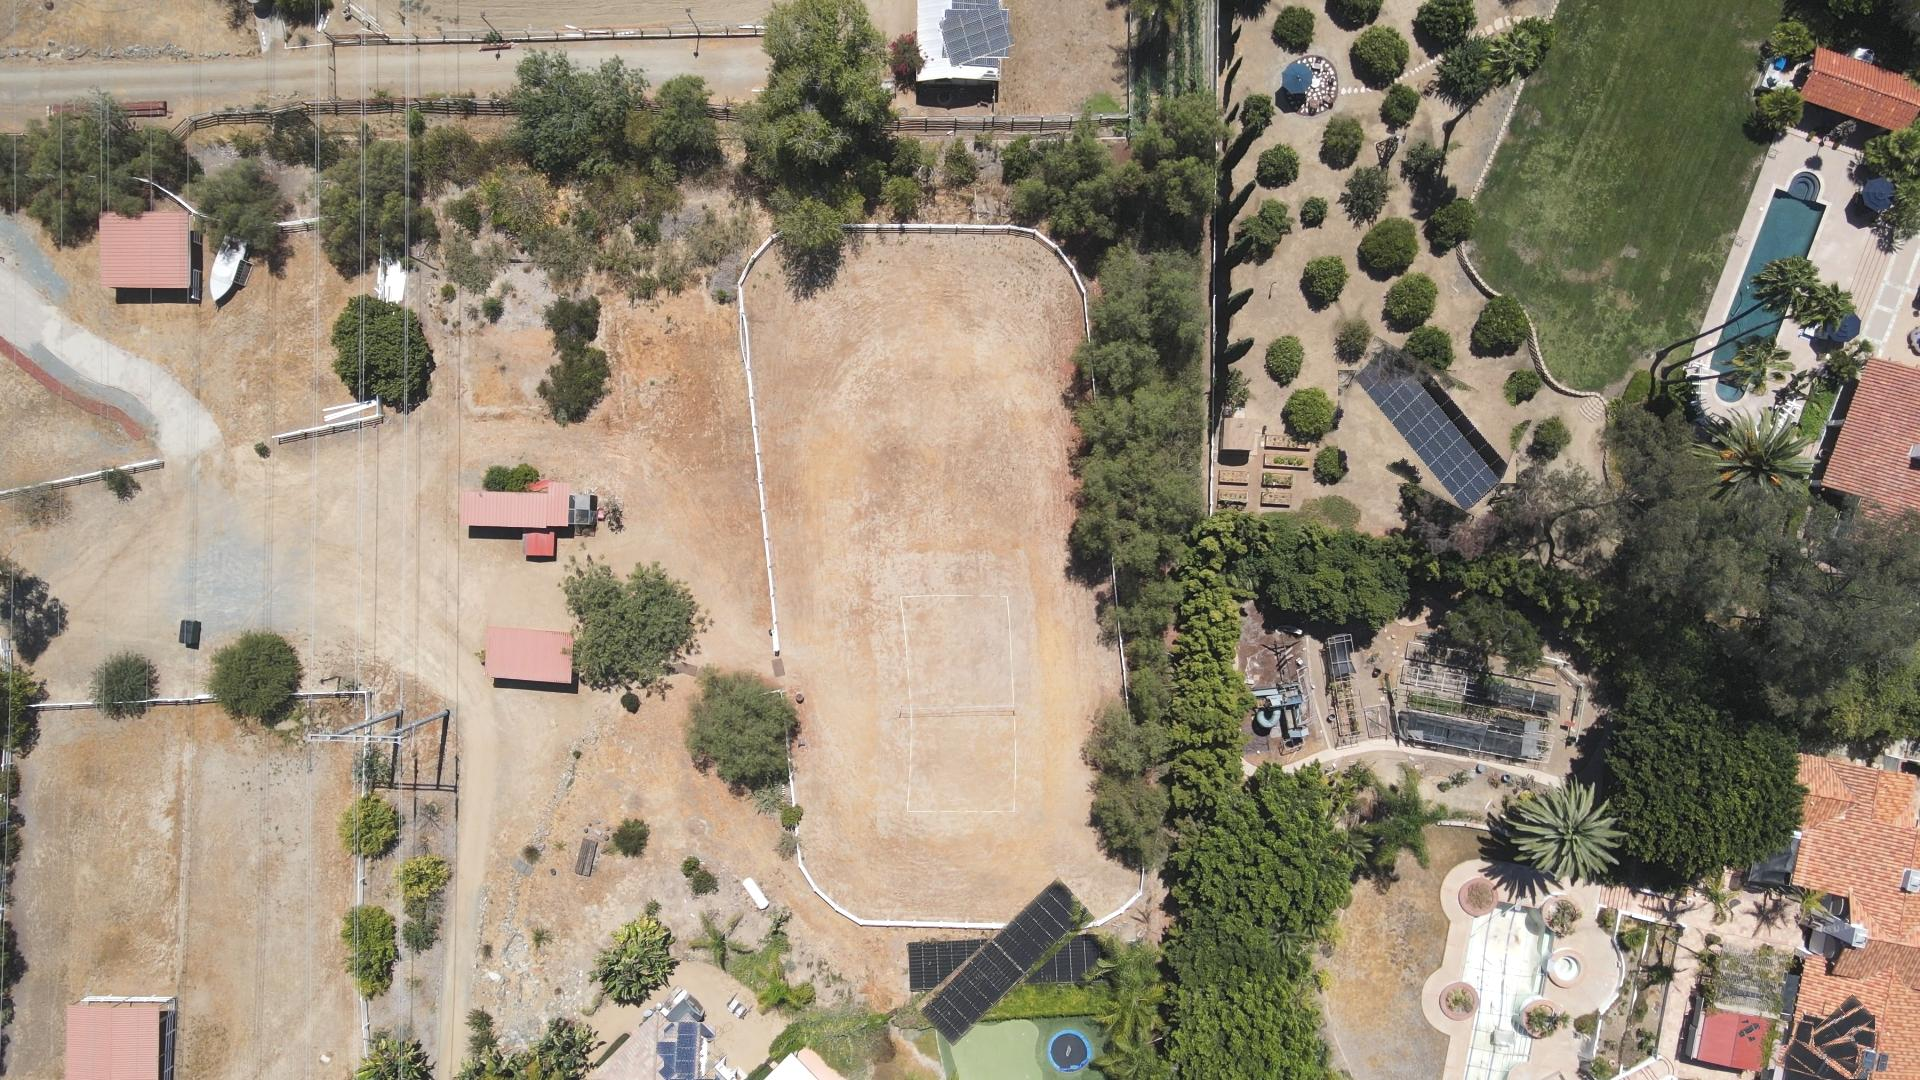solar-panels: (922, 880, 1091, 1047), (1350, 343, 1502, 512), (938, 0, 1015, 67), (1801, 1006, 1875, 1055), (1780, 1039, 1850, 1080), (657, 1022, 699, 1080), (1791, 1021, 1813, 1059), (1818, 1042, 1858, 1062), (1738, 1022, 1759, 1038)
